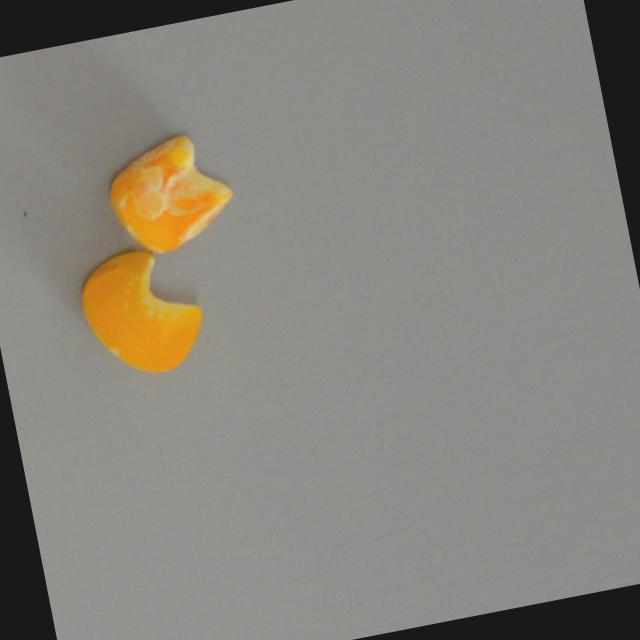dañado: (65, 235, 226, 391)
pelicula: (94, 121, 246, 265)
